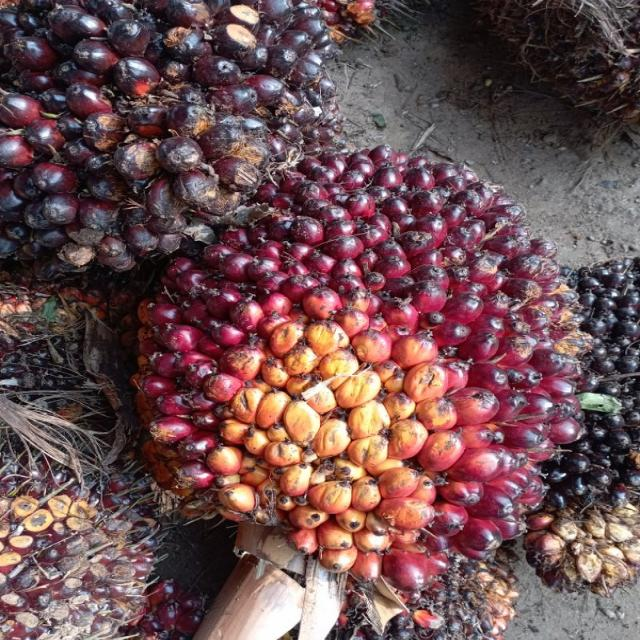fraksi 1: (91, 65, 613, 638)
